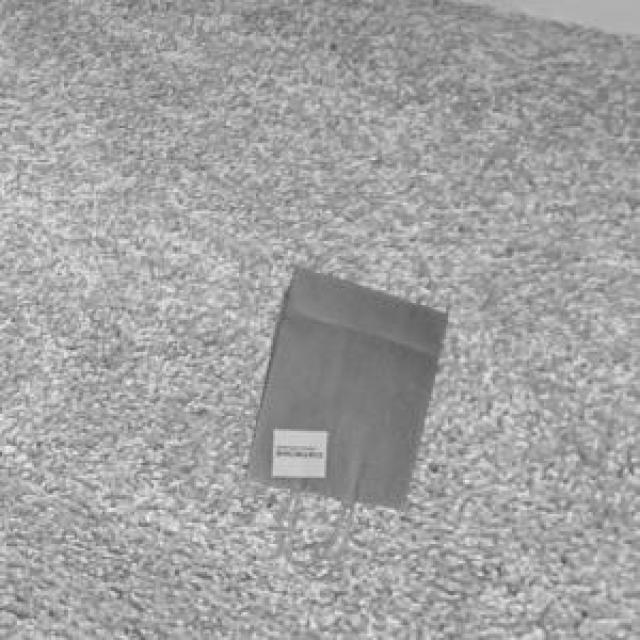paper: (241, 262, 444, 563)
